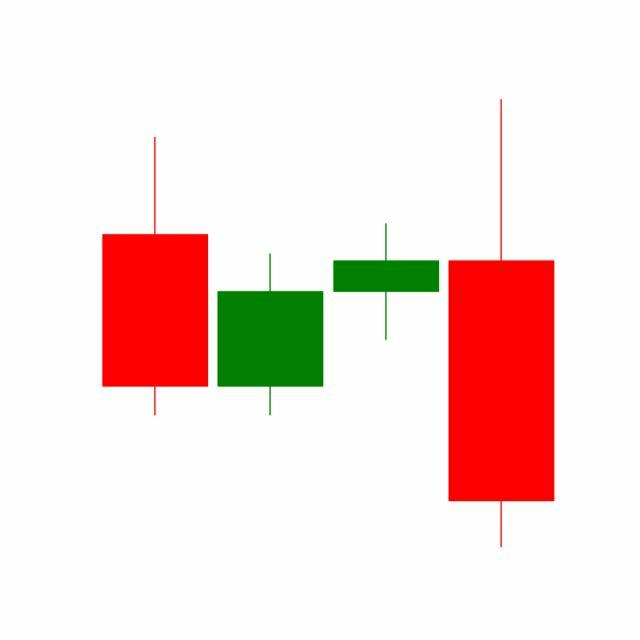Spinning Top: (329, 222, 445, 343)
